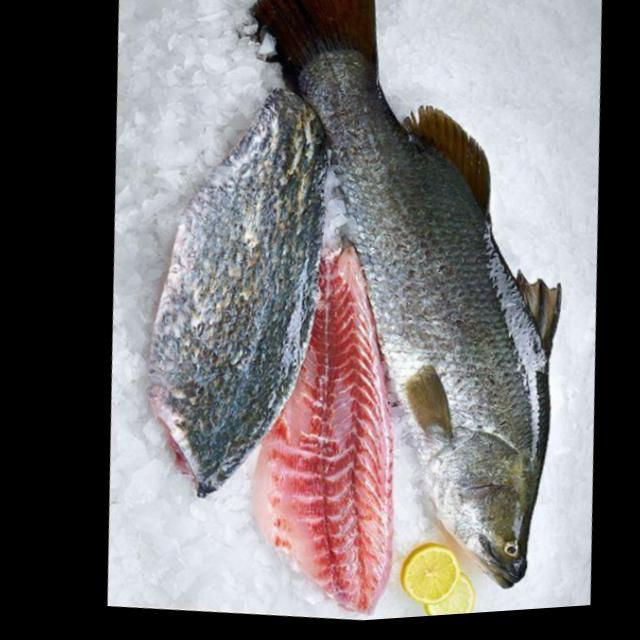Seabass: (169, 0, 629, 614)
